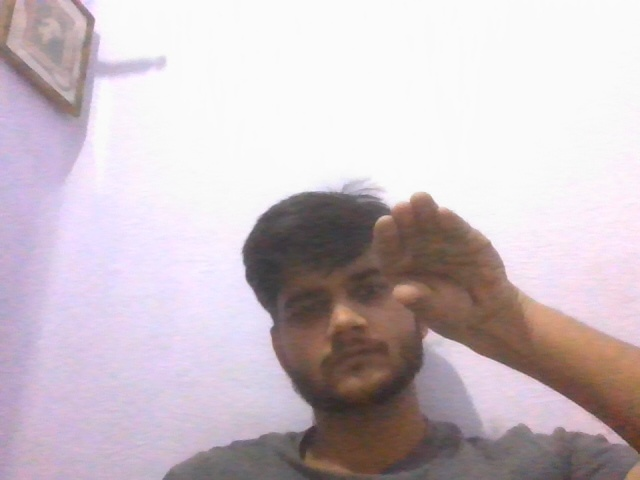sorry: (363, 185, 531, 356)
